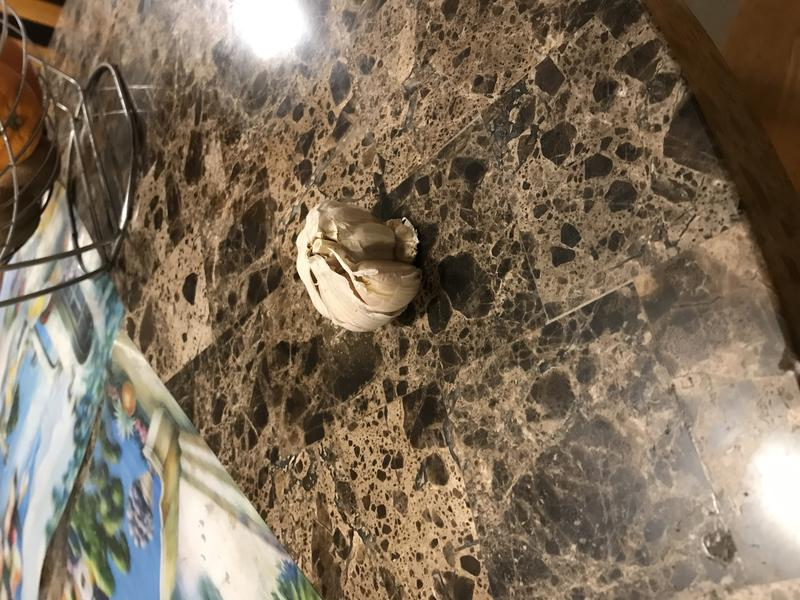garlic: (293, 192, 424, 337)
